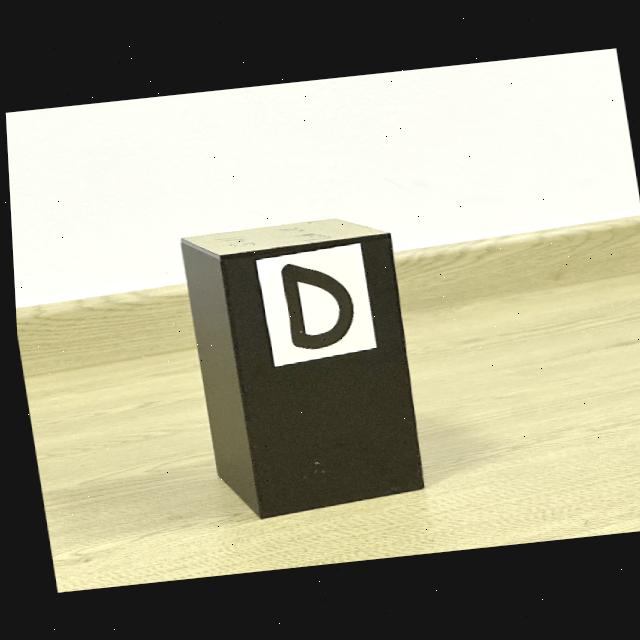D: (277, 264, 351, 350)
